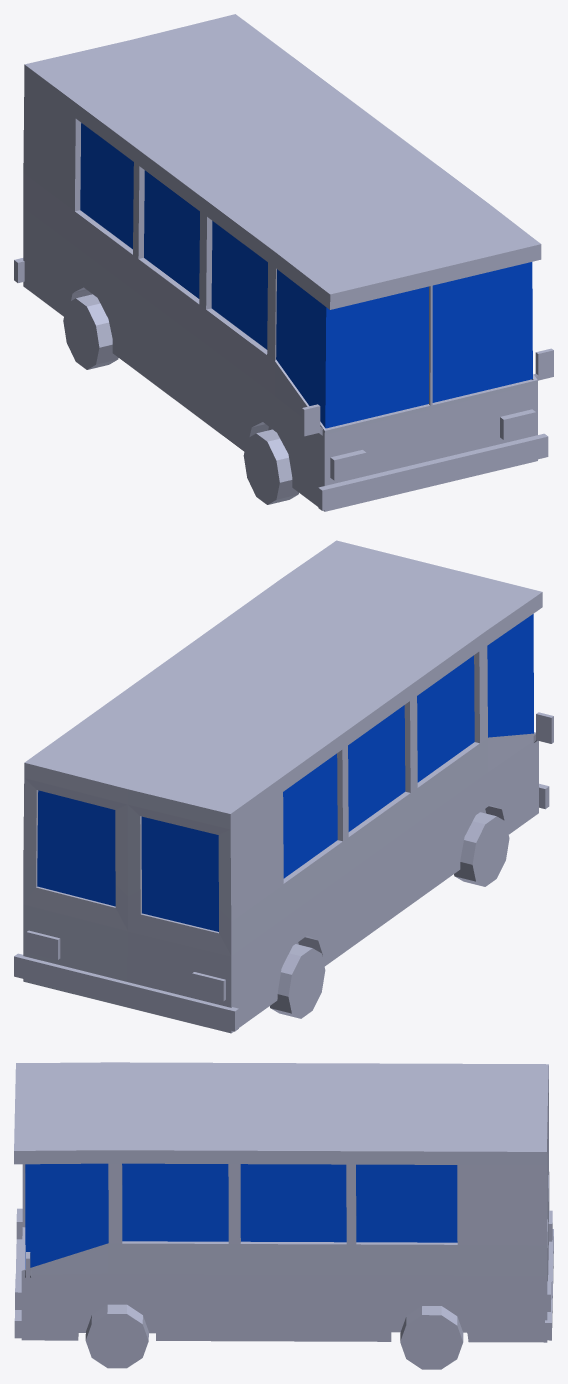
Rendered from Bus.glb.
3 renders of one model, top to bottom at view 1: azimuth 30°, elevation 25°; view 2: azimuth 150°, elevation 25°; view 3: azimuth 270°, elevation 25°, orthographic. The views are drawn at different scales.
Parts seen in each view (by area): view 1: Bus; view 2: Bus; view 3: Bus.
Part boxes in pixels (left/top/right/bottom): Bus: left=14, top=14, right=553, bottom=511; Bus: left=14, top=540, right=553, bottom=1033; Bus: left=14, top=1062, right=553, bottom=1369.
Bounding box in the file's own units: 1 × 0.9643 × 2.2.
